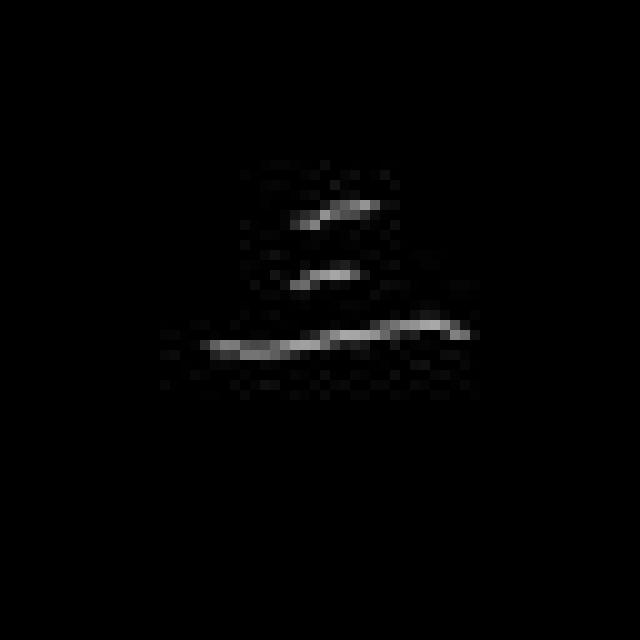3 -three-: (192, 186, 484, 376)
